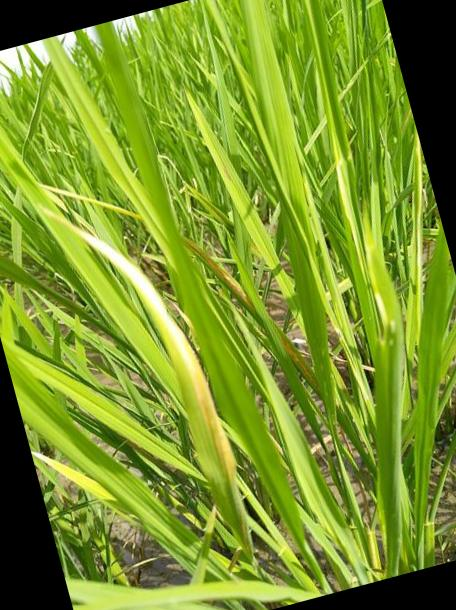Leaf Blight: (48, 212, 235, 481), (183, 238, 256, 313), (40, 183, 146, 226), (273, 320, 318, 392)
